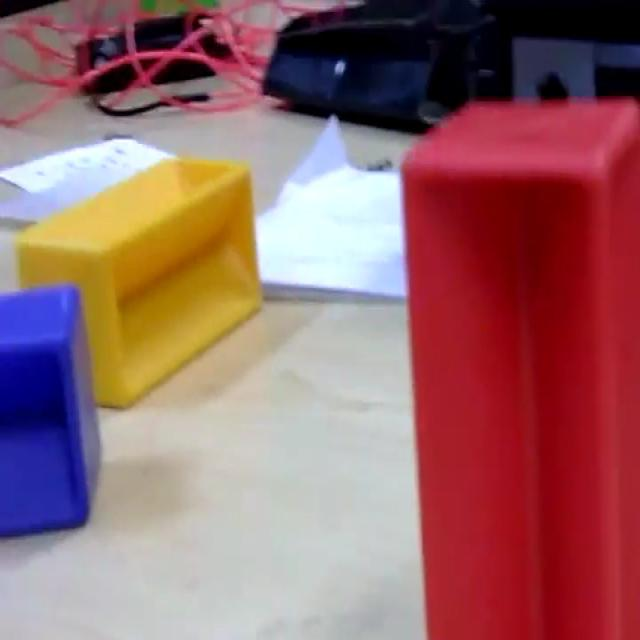blue_block: (0, 279, 101, 537)
red_block: (399, 95, 639, 636)
yellow_block: (14, 153, 262, 408)
